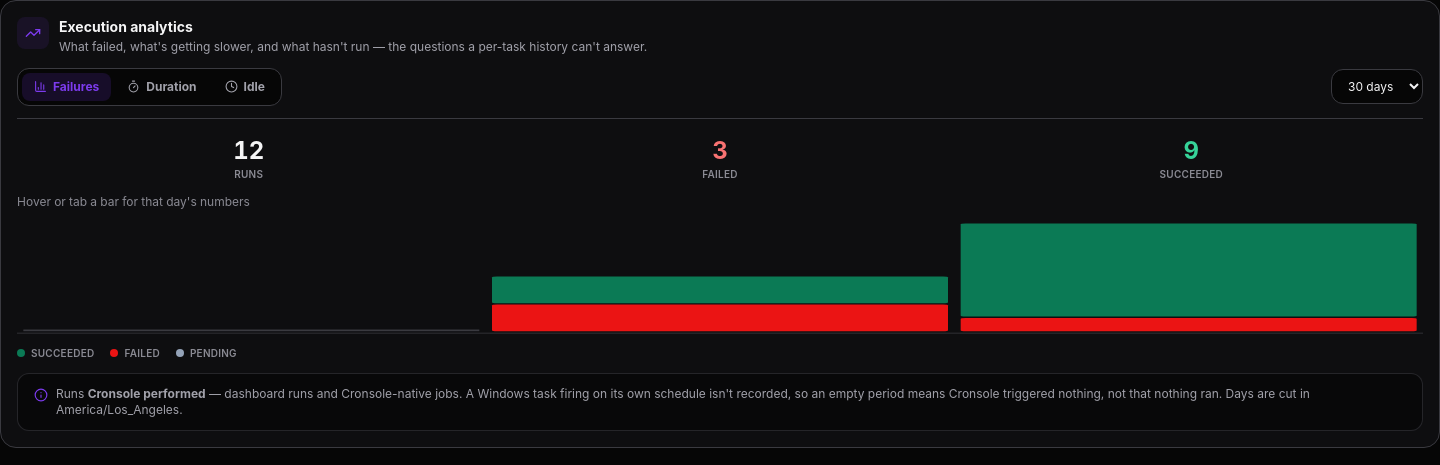
ExecutionAnalyticsTool › explains an empty duration list instead of just showing nothing
expect the text "Runs" is shown: met, box [234,168,263,180]
Click the tab "Duration" at (162, 86), box [115,72,209,100]
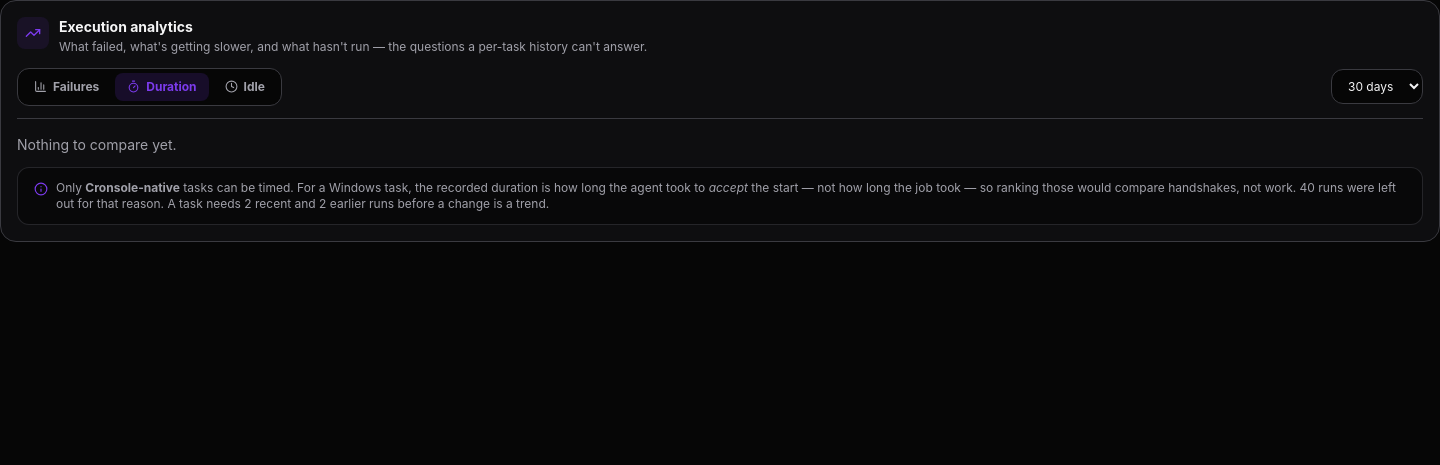
expect the text "Nothing to compare yet." is shown: met, box [17,136,176,152]
expect the text "accept" is shown: met, box [709,180,748,194]
expect the text "40 runs were left out" is shown: met, box [56,180,1406,212]
